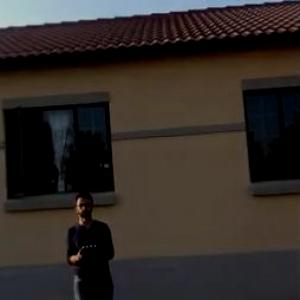follow: (61, 185, 122, 299)
